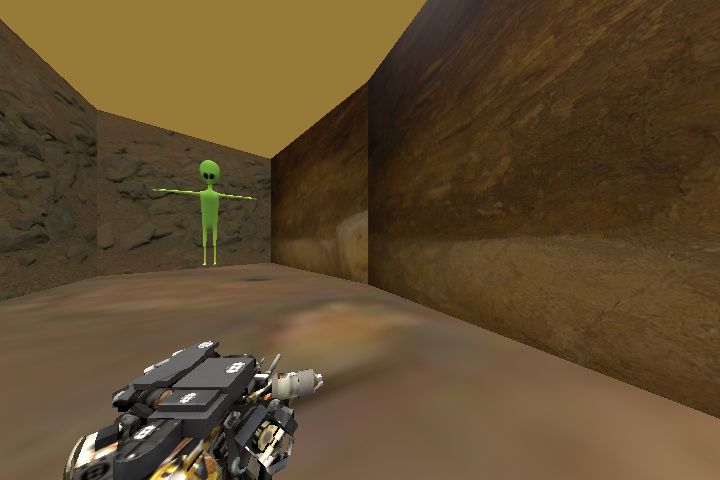alien: (152, 158, 255, 264)
